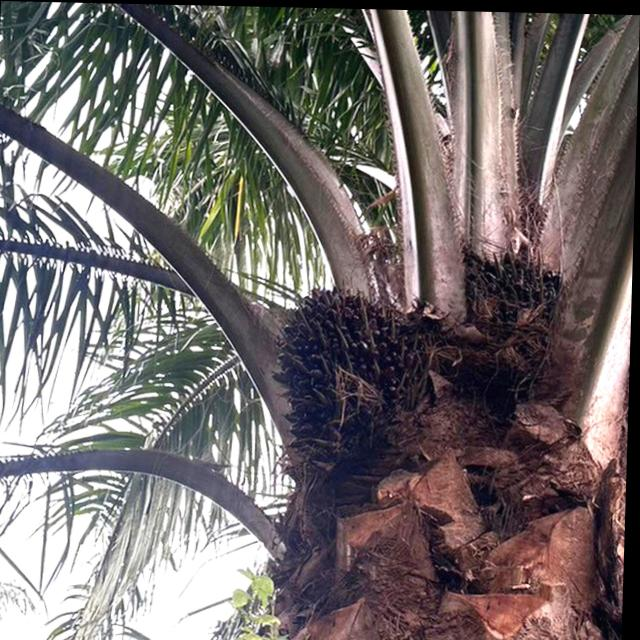ripe: (263, 276, 432, 456), (457, 240, 580, 335)
